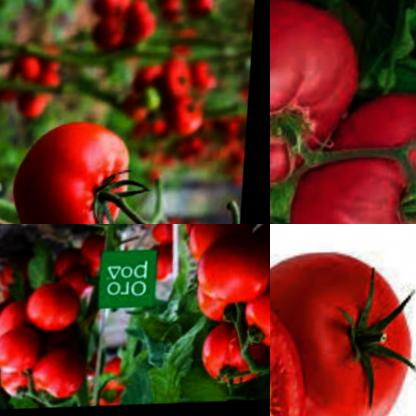tomato: (270, 252, 416, 416), (270, 0, 375, 182), (283, 86, 416, 224), (15, 119, 140, 224), (124, 59, 211, 138), (191, 231, 270, 313), (270, 295, 318, 416), (193, 324, 268, 396), (0, 50, 69, 124), (192, 113, 251, 199), (90, 0, 162, 57), (149, 0, 253, 37), (29, 342, 91, 402), (26, 280, 93, 335), (197, 281, 255, 331), (157, 135, 215, 183), (138, 224, 183, 284), (238, 279, 270, 362), (184, 224, 251, 262), (0, 320, 45, 374), (0, 296, 43, 342), (243, 224, 270, 294), (0, 369, 43, 410), (76, 239, 115, 280), (145, 224, 192, 253), (64, 263, 93, 296)
